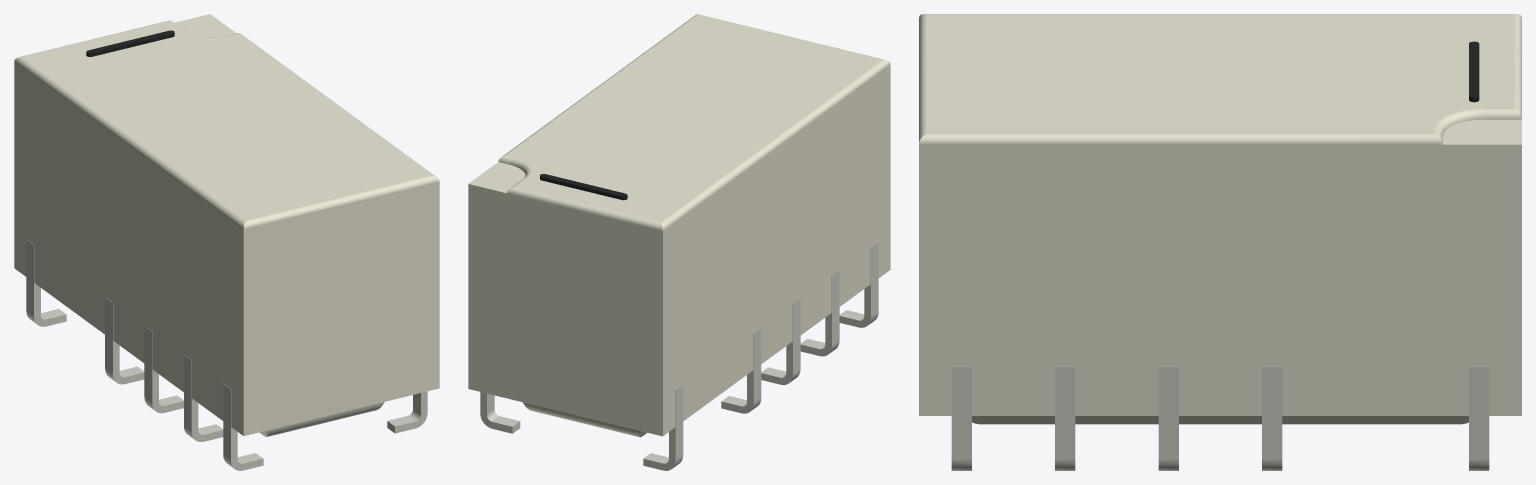
File: kc-relay_dpdt_omron_g6sk-2g.glb
The picture shows the model from 3 angles, left to right: view 1: azimuth 30°, elevation 25°; view 2: azimuth 150°, elevation 25°; view 3: azimuth 270°, elevation 25°; orthographic projection. The views are drawn at different scales.
Parts seen in each view (by area): view 1: 0.75_0.75_0.6666666666666666_0, 0.6666666666666666_0.6666666666666666_0.5833333333333334_0.8, 0_0_0_0; view 2: 0.75_0.75_0.6666666666666666_0, 0.6666666666666666_0.6666666666666666_0.5833333333333334_0.8, 0_0_0_0; view 3: 0.75_0.75_0.6666666666666666_0, 0.6666666666666666_0.6666666666666666_0.5833333333333334_0.8, 0_0_0_0.
Part boxes in pixels (x1=…): 0.75_0.75_0.6666666666666666_0: x1=14, y1=14, x2=439, y2=436; 0.6666666666666666_0.6666666666666666_0.5833333333333334_0.8: x1=26, y1=239, x2=427, y2=470; 0_0_0_0: x1=86, y1=30, x2=174, y2=56; 0.75_0.75_0.6666666666666666_0: x1=468, y1=14, x2=890, y2=437; 0.6666666666666666_0.6666666666666666_0.5833333333333334_0.8: x1=480, y1=241, x2=878, y2=470; 0_0_0_0: x1=540, y1=174, x2=627, y2=200; 0.75_0.75_0.6666666666666666_0: x1=919, y1=14, x2=1521, y2=424; 0.6666666666666666_0.6666666666666666_0.5833333333333334_0.8: x1=951, y1=366, x2=1489, y2=470; 0_0_0_0: x1=1469, y1=41, x2=1479, y2=102.
Bounding box in the file's own units: 0.7325 × 0.933 × 1.48.
